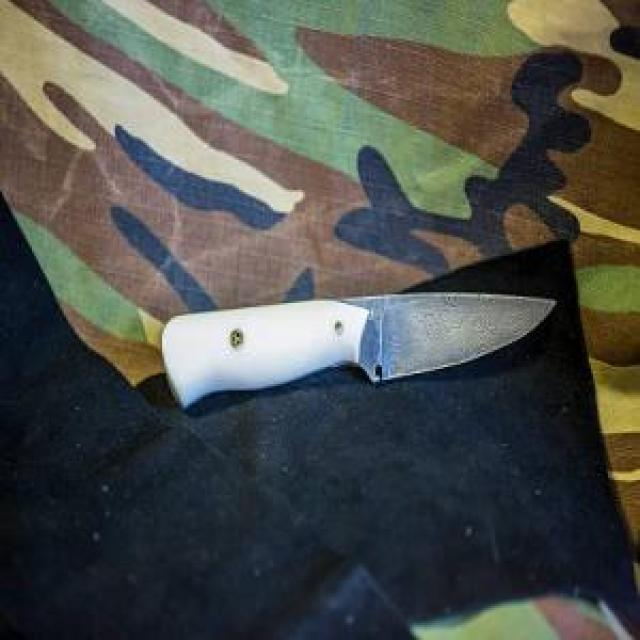knife: (160, 288, 560, 407)
